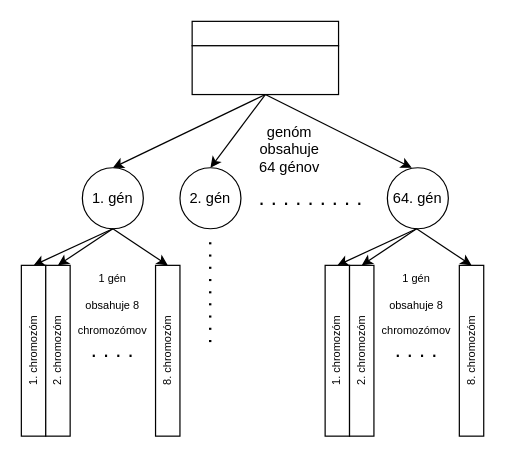
Image size: 517x458. Some labels were removed from this diagram. Here are the shapes that lost their labels. From the top down, the box of each, then its label:
(191, 20, 339, 46): Jedinec
(191, 45, 339, 95): obsahuje 1 genóm
